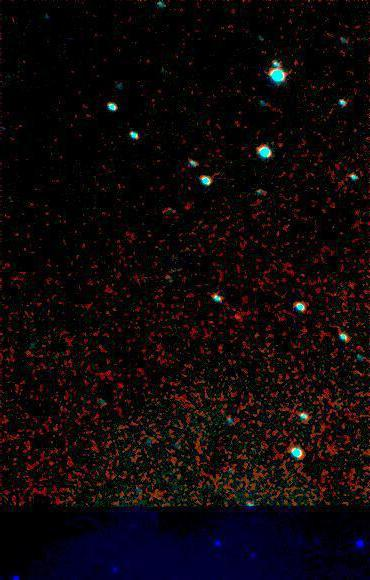star: (224, 302, 254, 332)
